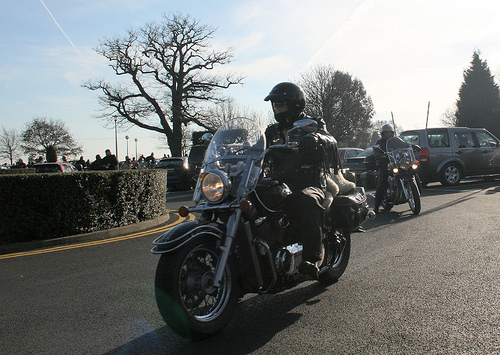helmet: (265, 88, 308, 120)
